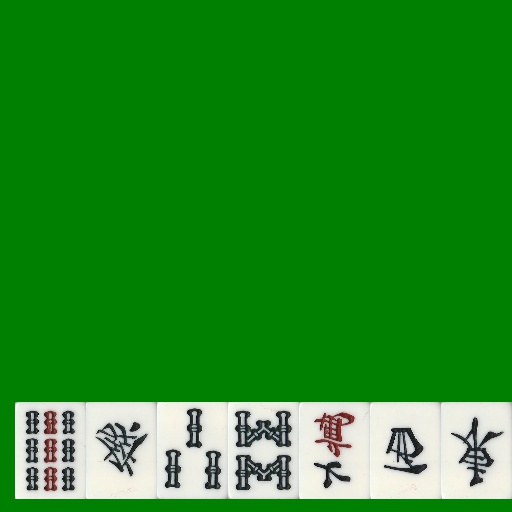3s: (157, 402, 228, 499)
7m: (299, 402, 370, 499)
8s: (228, 402, 299, 499)
9s: (15, 402, 86, 499)
east: (441, 402, 512, 499)
hatsu: (86, 402, 157, 499)
west: (370, 402, 441, 499)
